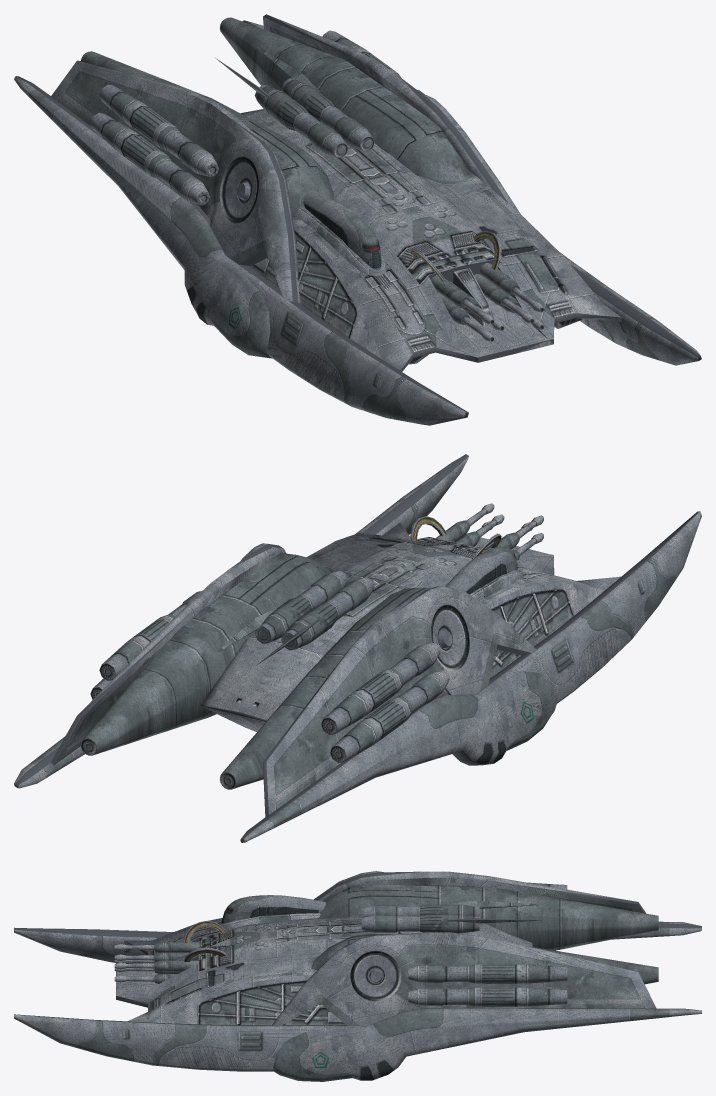
File: Cylon Heavy Raider.dae
3 views of the same model, one above another, from view 1: azimuth 30°, elevation 25°; view 2: azimuth 150°, elevation 25°; view 3: azimuth 270°, elevation 25° (orthographic). The views are drawn at different scales.
Parts seen in each view (by area): view 1: colftrh1co_1 (×22); view 2: colftrh1co_1 (×20); view 3: colftrh1co_1 (×23).
Boxes of the visible parts, <box> form: colftrh1co_1 (×22): <box>14,15,701,425</box>; colftrh1co_1 (×20): <box>18,454,701,842</box>; colftrh1co_1 (×23): <box>14,871,701,1081</box>.
Size of the model in its own units: 363 by 933 by 191.
